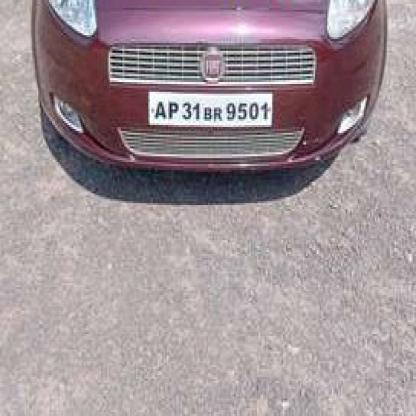license_plate: (146, 86, 272, 121)
